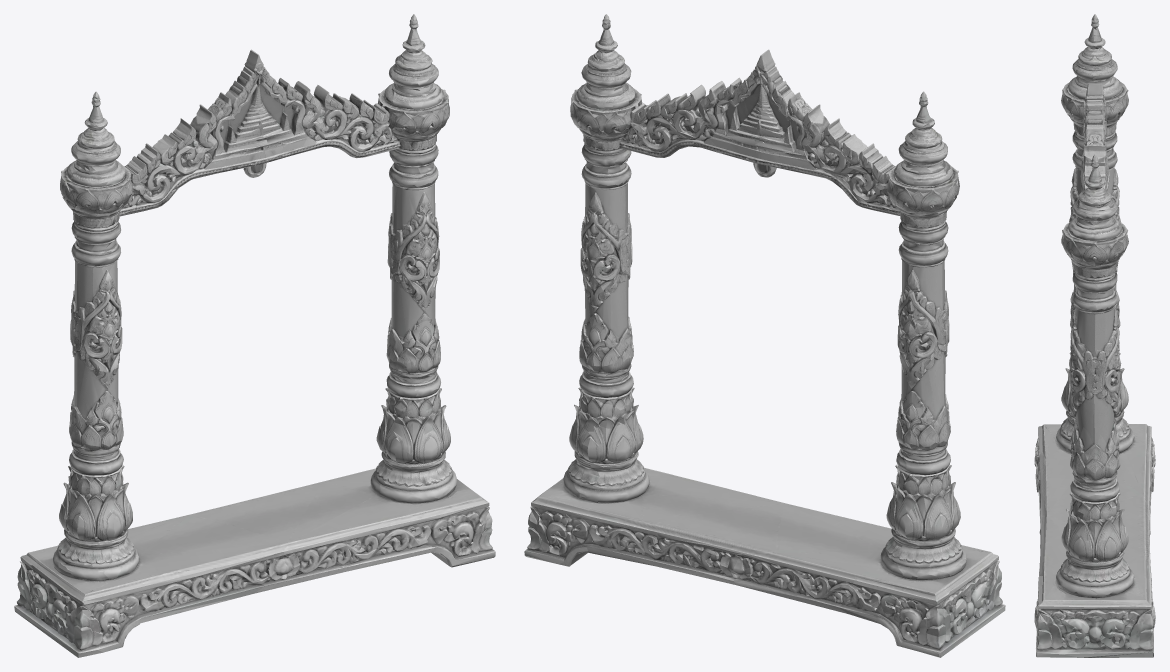
File: bellframe.glb
The picture shows the model from 3 angles, left to right: view 1: azimuth 30°, elevation 25°; view 2: azimuth 150°, elevation 25°; view 3: azimuth 270°, elevation 25°; orthographic projection. The views are drawn at different scales.
Visible parts, largest first — view 1: Mesh_0; view 2: Mesh_0; view 3: Mesh_0.
Part boxes in pixels (<box>): Mesh_0: <box>14,14,495,657</box>; Mesh_0: <box>524,14,1005,657</box>; Mesh_0: <box>1034,14,1155,657</box>.
Size of the model in its own units: 1.56 by 1.9 by 0.4329.
Materials: 1 (1 with a texture image).
